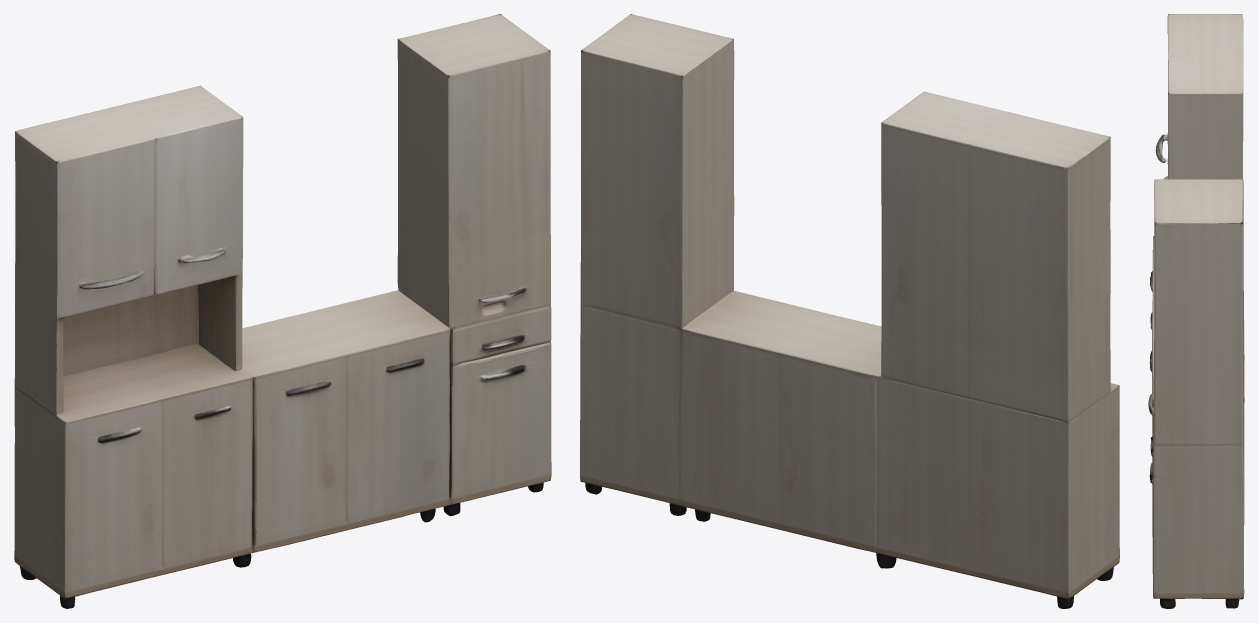
Rendered from romeo_kitchen_scheme_3pcs_baf.glb.
The picture shows the model from 3 angles, left to right: view 1: azimuth 30°, elevation 25°; view 2: azimuth 150°, elevation 25°; view 3: azimuth 270°, elevation 25°; orthographic projection. The views are drawn at different scales.
Visible parts, largest first — view 1: world; view 2: world; view 3: world.
Part boxes in pixels (left/top/right/bottom): world: left=14, top=14, right=551, bottom=608; world: left=580, top=14, right=1119, bottom=608; world: left=1148, top=14, right=1244, bottom=608.
Bounding box in the file's own units: 1 × 0.879 × 0.1954.
Materials: 1 (1 with a texture image).
